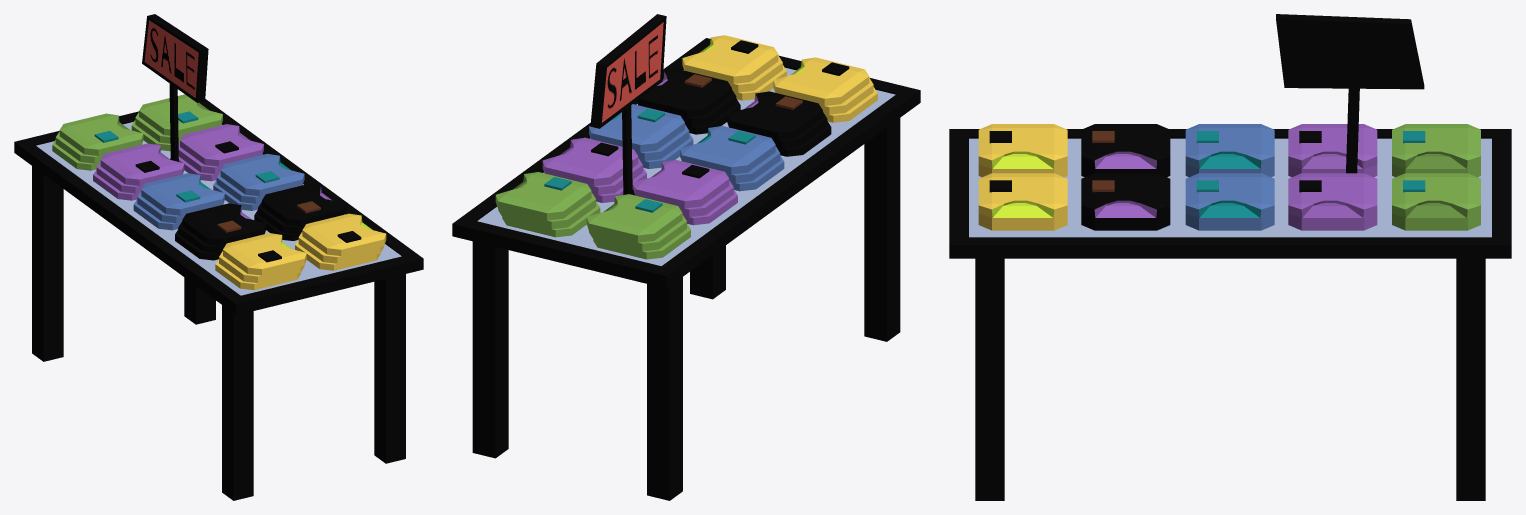
The model's file is table_with_shirts_improved.fbx.
3 renders of one model, left to right at view 1: azimuth 30°, elevation 25°; view 2: azimuth 150°, elevation 25°; view 3: azimuth 270°, elevation 25°, orthographic. The views are drawn at different scales.
Visible parts, largest first — view 1: Text; view 2: Text; view 3: Text.
Boxes of the visible parts, x1=… form: Text: x1=14, y1=14, x2=423, y2=500; Text: x1=452, y1=14, x2=920, y2=500; Text: x1=949, y1=14, x2=1511, y2=500.
Size of the model in its own units: 253 by 441 by 519.
Materials: 12 (1 with a texture image).
